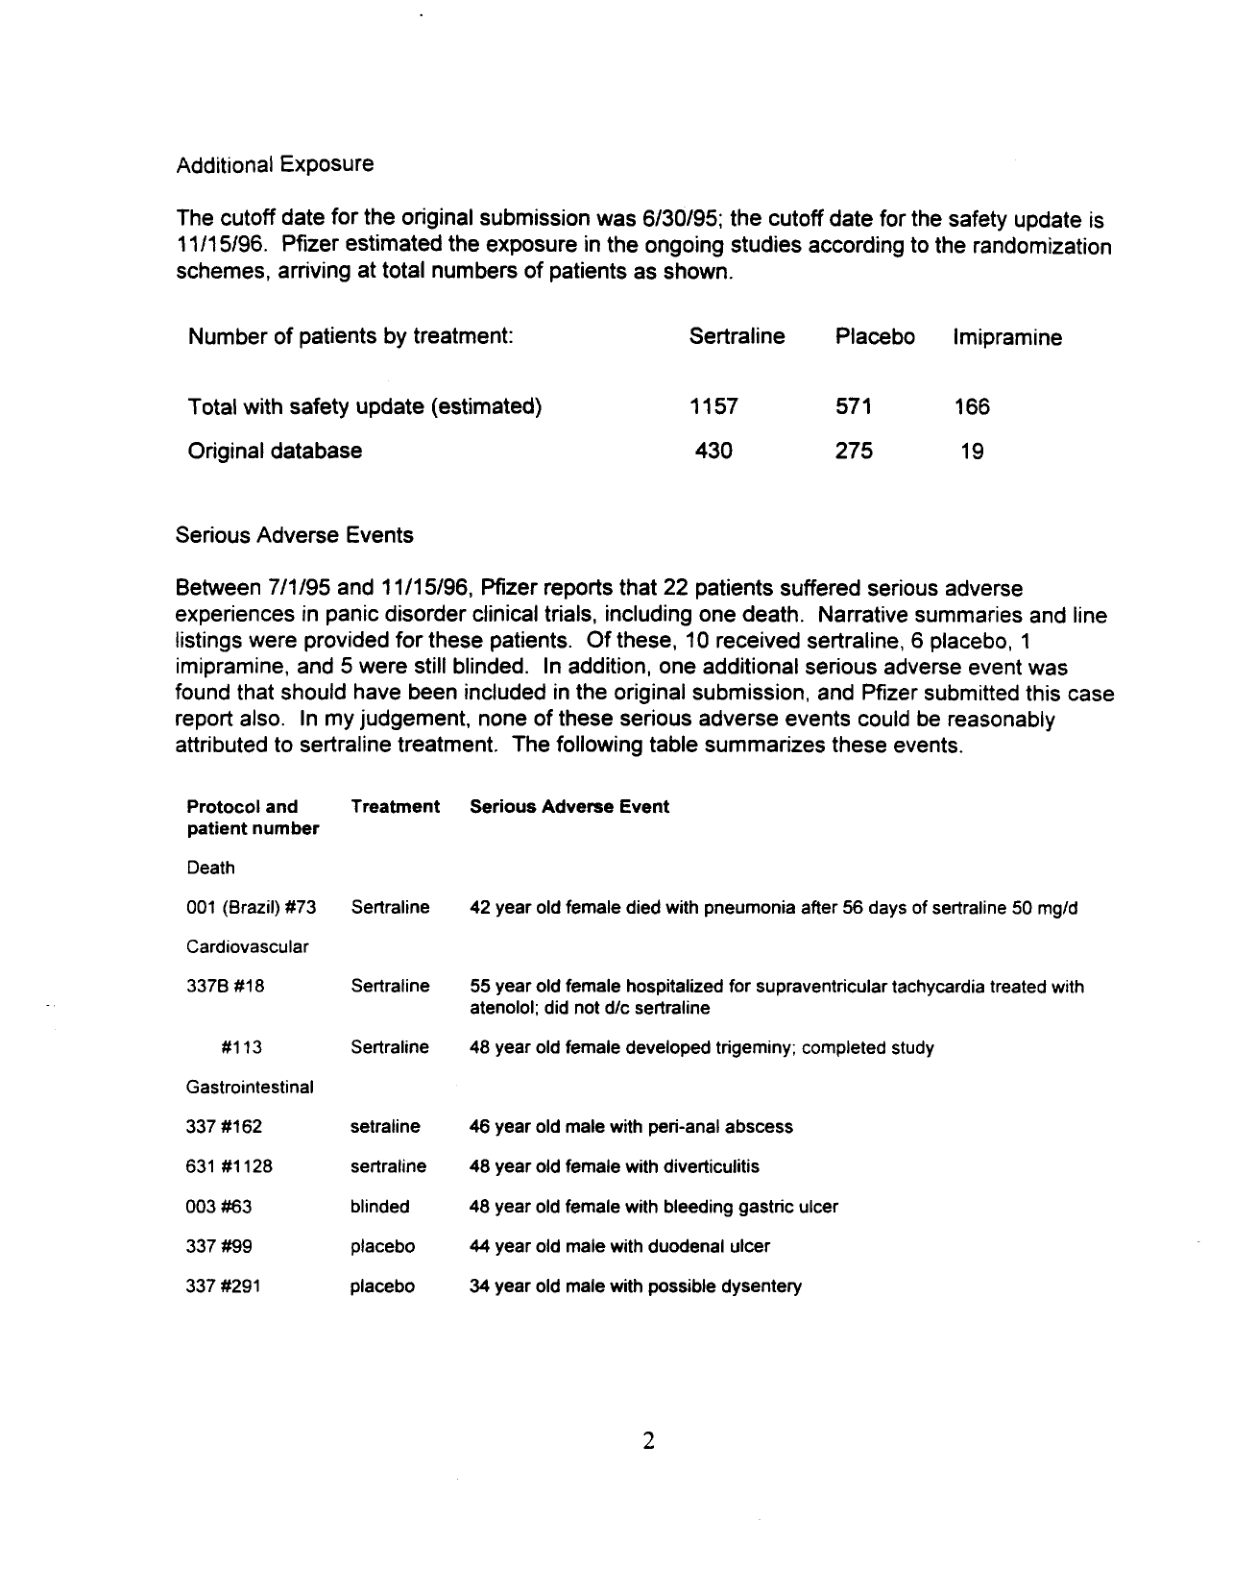nolines: (180, 788, 1092, 1315), (182, 318, 1071, 469)
